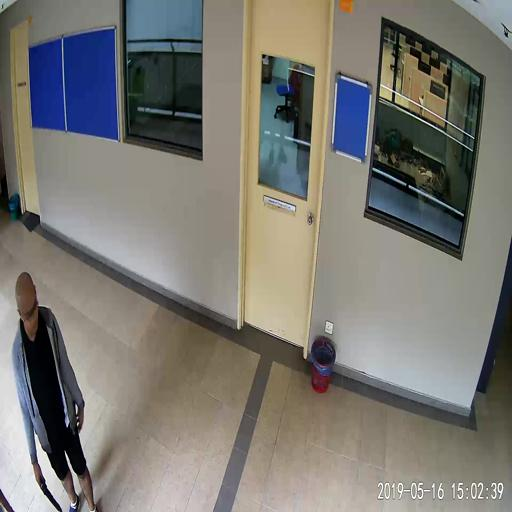pistol: (36, 472, 61, 512)
